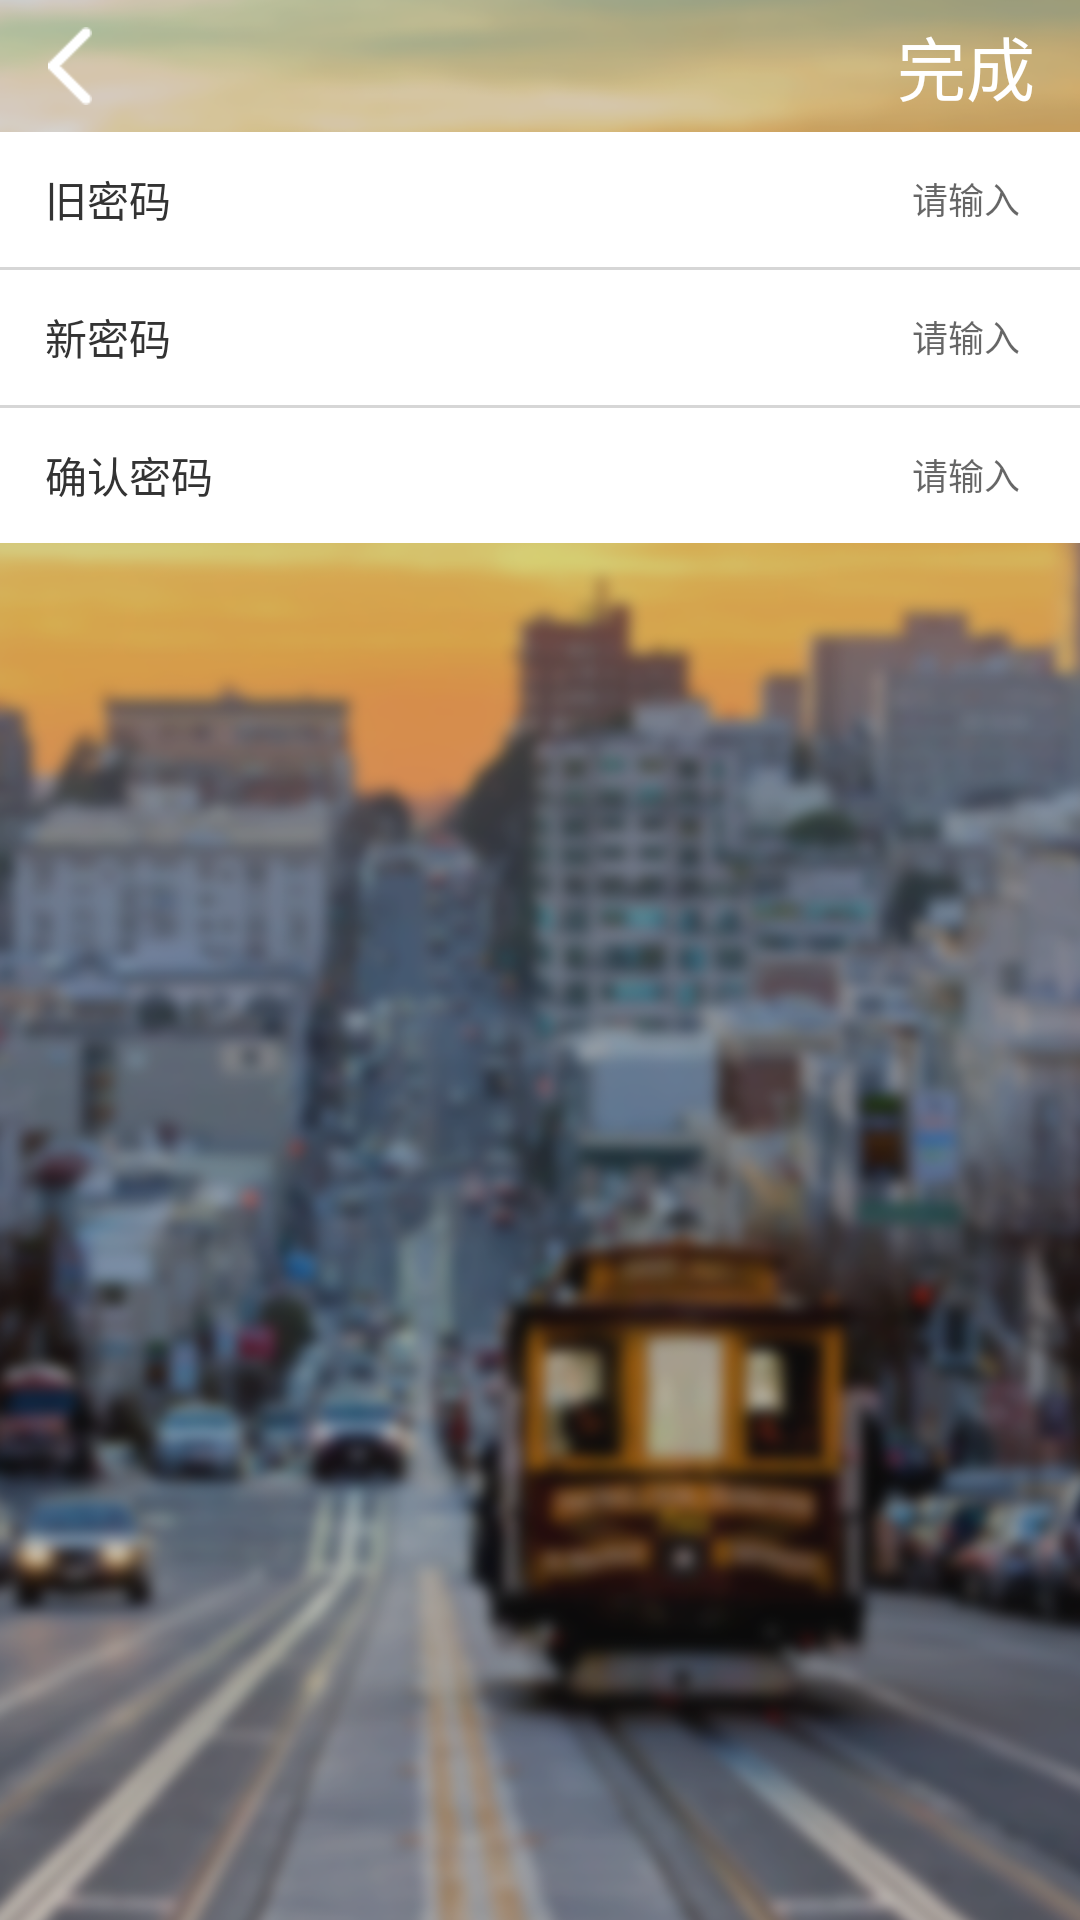

Icon click points for this 1080 x 1920 phone screenshot, format [x,y]:
back: [70,66]
